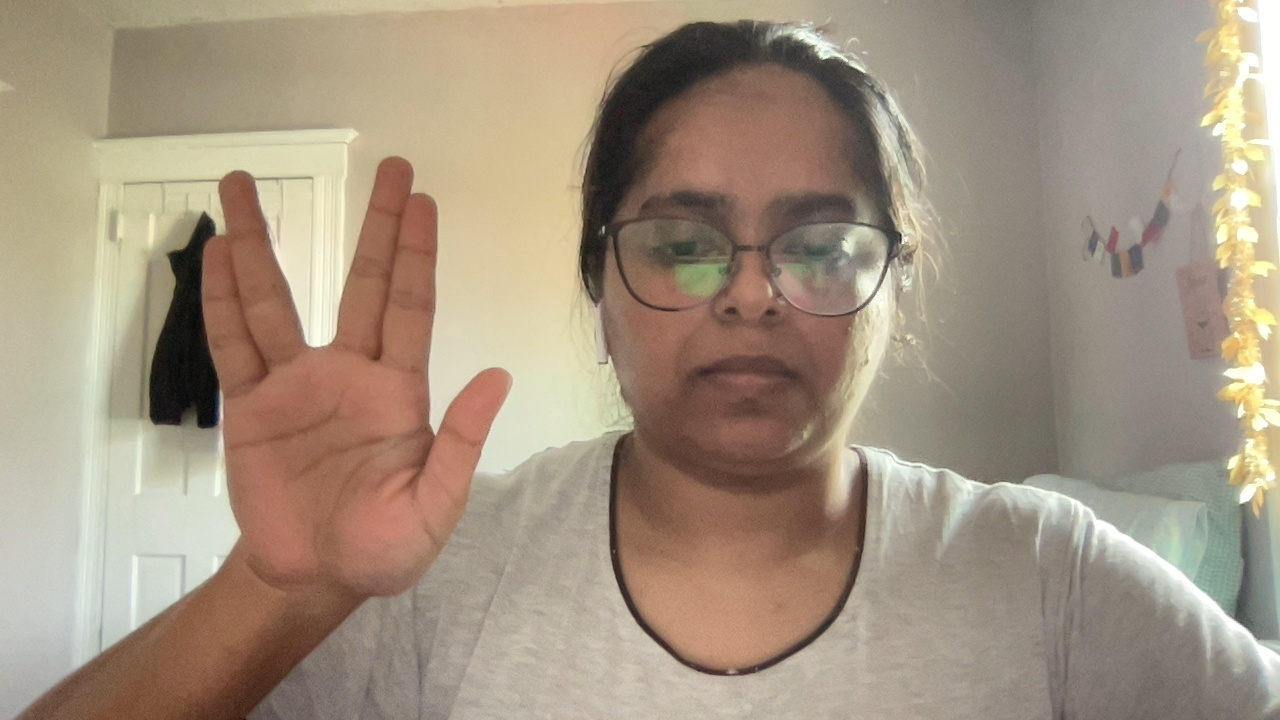LiveLong: (199, 155, 513, 595)
